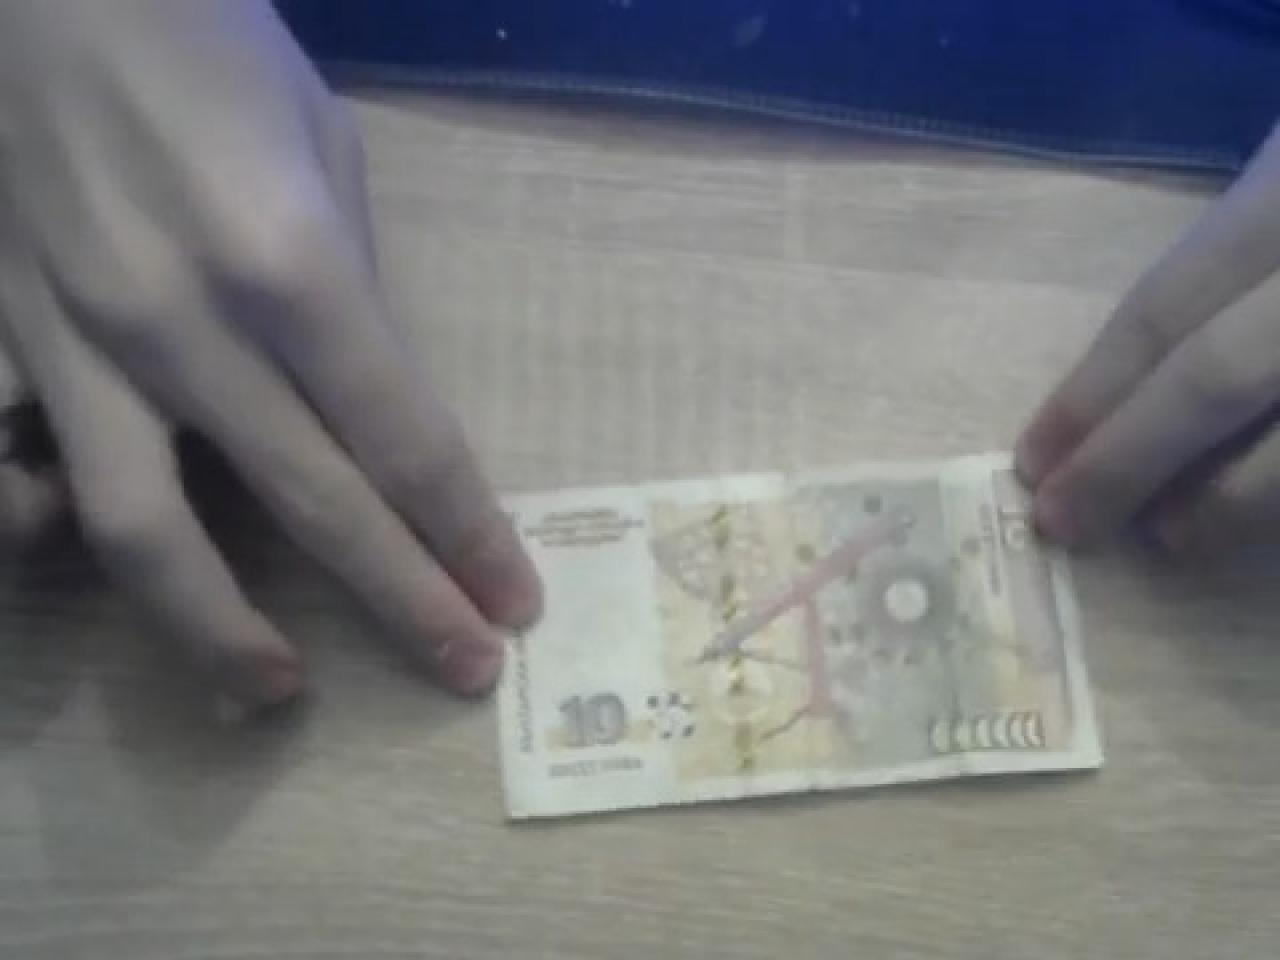10leva: (499, 456, 1107, 827)
